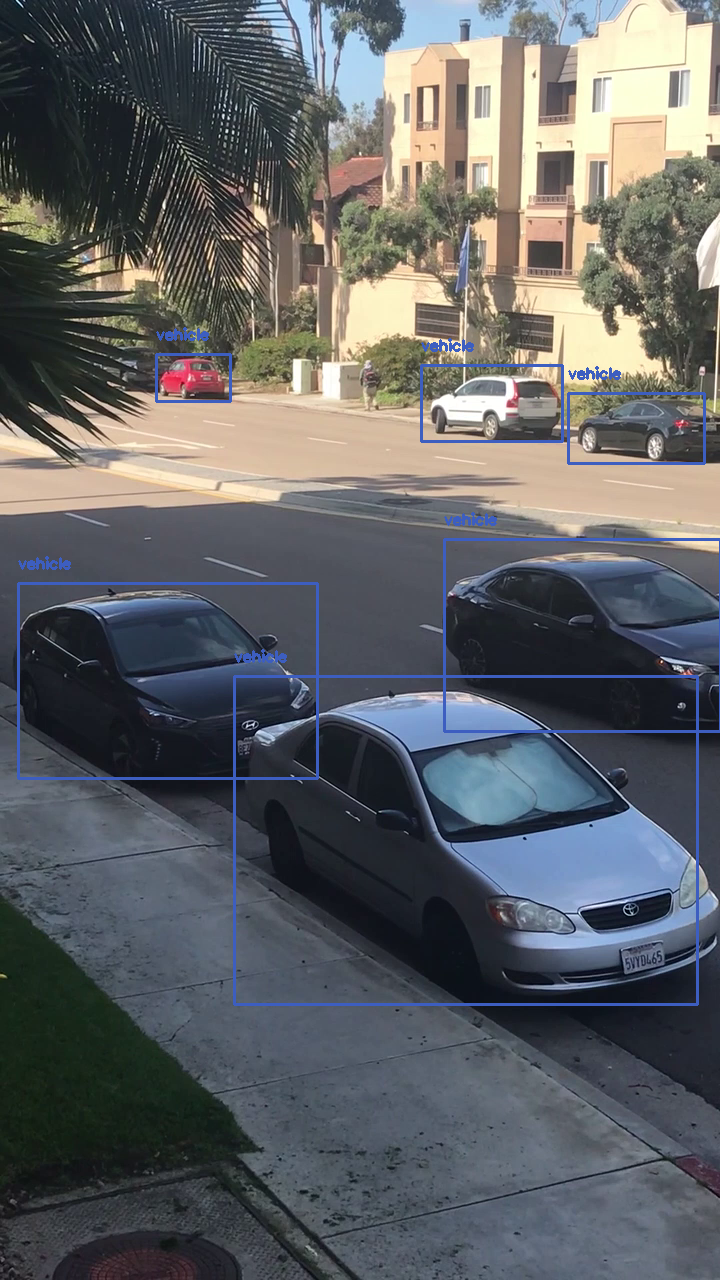vehicle: (234, 676, 697, 1004), (18, 583, 317, 778), (444, 539, 720, 731), (421, 365, 562, 441), (568, 393, 704, 463), (156, 354, 230, 401)
